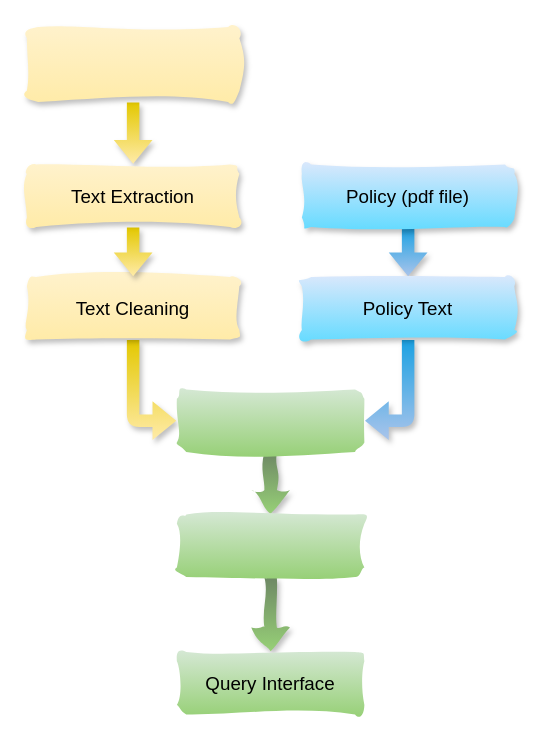
Some shapes in this 543 by 735 pixel diagram are drawn without their labels. Each missing label, with the centre of its shape:
LLM Decsion + Invoice Text: point (270, 420)
Vector Store: point (270, 545)
Zip File (Containing Invoice pdf files): point (133, 65)
